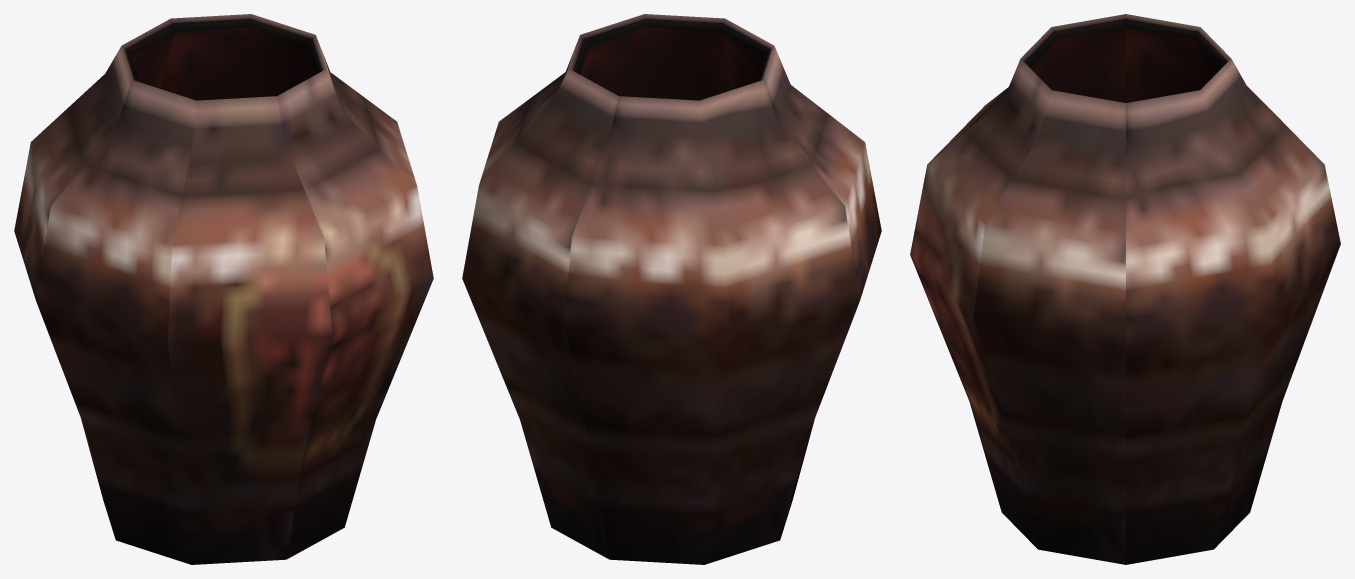
The model's file is general_obj_jar_red01-01.glb.
3 views of the same model, side by side, from view 1: azimuth 30°, elevation 25°; view 2: azimuth 150°, elevation 25°; view 3: azimuth 270°, elevation 25° (orthographic).
Parts seen in each view (by area): view 1: Object22; view 2: Object22; view 3: Object22.
Boxes of the visible parts, bbox=[...] form: Object22: bbox=[14, 14, 433, 564]; Object22: bbox=[462, 14, 881, 564]; Object22: bbox=[910, 14, 1340, 564].
Size of the model in its own units: 0.4207 by 0.488 by 0.4198.
Materials: 1 (1 with a texture image).
